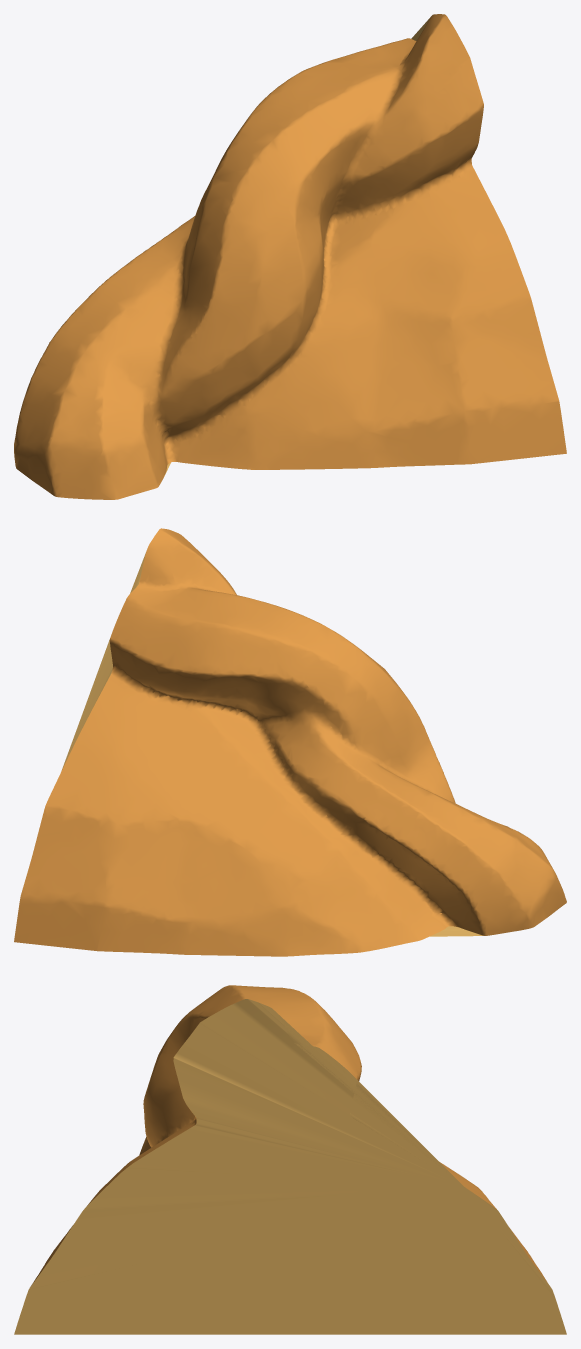
Rendered from Saltena_Piece_02.fbx.
3 renders of one model, top to bottom at view 1: azimuth 30°, elevation 25°; view 2: azimuth 150°, elevation 25°; view 3: azimuth 270°, elevation 25°, orthographic. The views are drawn at different scales.
Visible parts, largest first — view 1: Saltena_Piece_02; view 2: Saltena_Piece_02; view 3: Saltena_Piece_02.
Boxes of the visible parts, <box> form: Saltena_Piece_02: <box>14,14,566,499</box>; Saltena_Piece_02: <box>14,528,566,956</box>; Saltena_Piece_02: <box>14,985,566,1334</box>.
Size of the model in its own units: 43.44 by 33.91 by 50.59.
